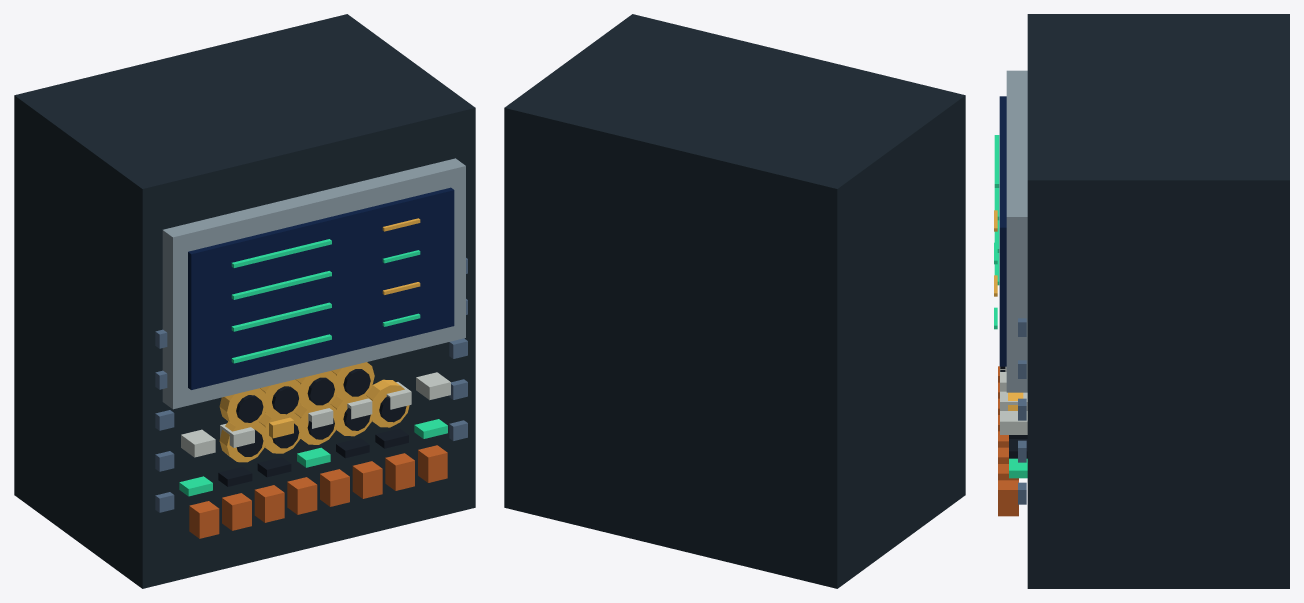
Rendered from 29_L84_MagneticTorqueRodDriveController.fbx.
3 views of the same model, side by side, from view 1: azimuth 30°, elevation 25°; view 2: azimuth 150°, elevation 25°; view 3: azimuth 270°, elevation 25° (orthographic). The views are drawn at different scales.
Visible parts, largest first — view 1: L84_MagneticTorqueRodDriveController, L84_MagneticTorqueRodDriveController_Part_0017, L84_MagneticTorqueRodDriveController_Part_0019, L84_MagneticTorqueRodDriveController_Part_0009, L84_MagneticTorqueRodDriveController_Part_0023, L84_MagneticTorqueRodDriveController_Part_0013, L84_MagneticTorqueRodDriveController_Part_0015, L84_MagneticTorqueRodDriveController_Part_0021, L84_MagneticTorqueRodDriveController_Part_0025, L84_MagneticTorqueRodDriveController_Part_0011, L84_MagneticTorqueRodDriveController_Part_0024, L84_MagneticTorqueRodDriveController_Part_0022 (+2 smaller); view 2: L84_MagneticTorqueRodDriveController; view 3: L84_MagneticTorqueRodDriveController.
Part boxes in pixels (<box>): L84_MagneticTorqueRodDriveController: <box>14,14,475,588</box>; L84_MagneticTorqueRodDriveController_Part_0017: <box>366,379,409,427</box>; L84_MagneticTorqueRodDriveController_Part_0019: <box>219,388,267,428</box>; L84_MagneticTorqueRodDriveController_Part_0009: <box>219,420,267,462</box>; L84_MagneticTorqueRodDriveController_Part_0023: <box>295,371,338,410</box>; L84_MagneticTorqueRodDriveController_Part_0013: <box>294,403,338,444</box>; L84_MagneticTorqueRodDriveController_Part_0015: <box>330,394,374,436</box>; L84_MagneticTorqueRodDriveController_Part_0021: <box>260,379,302,419</box>; L84_MagneticTorqueRodDriveController_Part_0025: <box>331,362,374,401</box>; L84_MagneticTorqueRodDriveController_Part_0011: <box>258,412,302,453</box>; L84_MagneticTorqueRodDriveController_Part_0024: <box>307,377,334,405</box>; L84_MagneticTorqueRodDriveController_Part_0022: <box>272,386,298,414</box>; L84_MagneticTorqueRodDriveController: <box>504,14,965,588</box>; L84_MagneticTorqueRodDriveController: <box>994,14,1289,588</box>.
Size of the model in its own units: 107 by 123 by 80.59.
